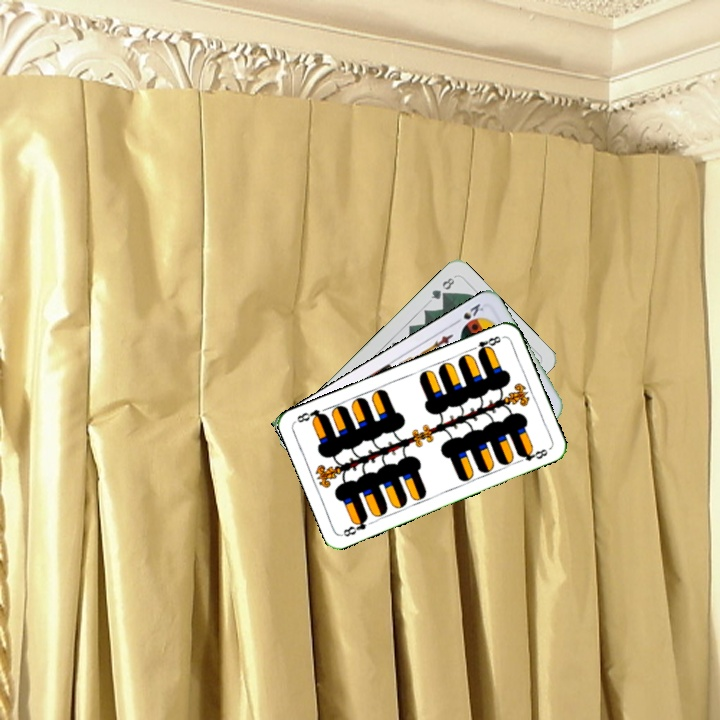E8: (466, 332, 503, 357), (338, 512, 371, 539)
G8: (427, 273, 457, 302)
SK: (450, 299, 486, 327)
